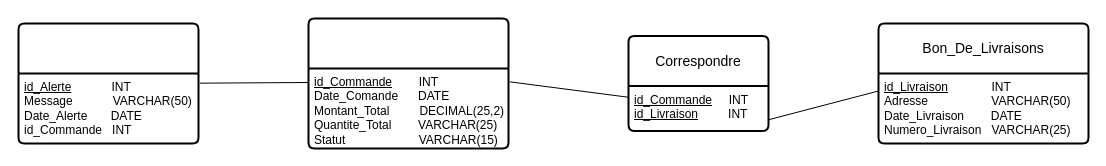
The diagram is 1106 pixels wide and 166 high, and some of its shapes have lost their labels. Each missing label, with the box of its shape:
Alertes: (17, 22, 199, 144)
Commandes: (307, 17, 509, 149)
